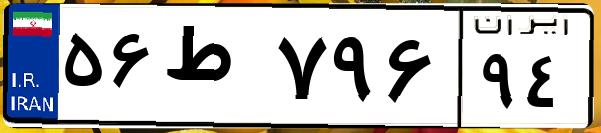4: (525, 38, 570, 115)
5: (57, 26, 110, 100)
6: (385, 28, 445, 110), (110, 28, 158, 98)
7: (270, 28, 330, 110)
9: (330, 28, 385, 110), (475, 38, 525, 113)
ط: (158, 20, 270, 120)
